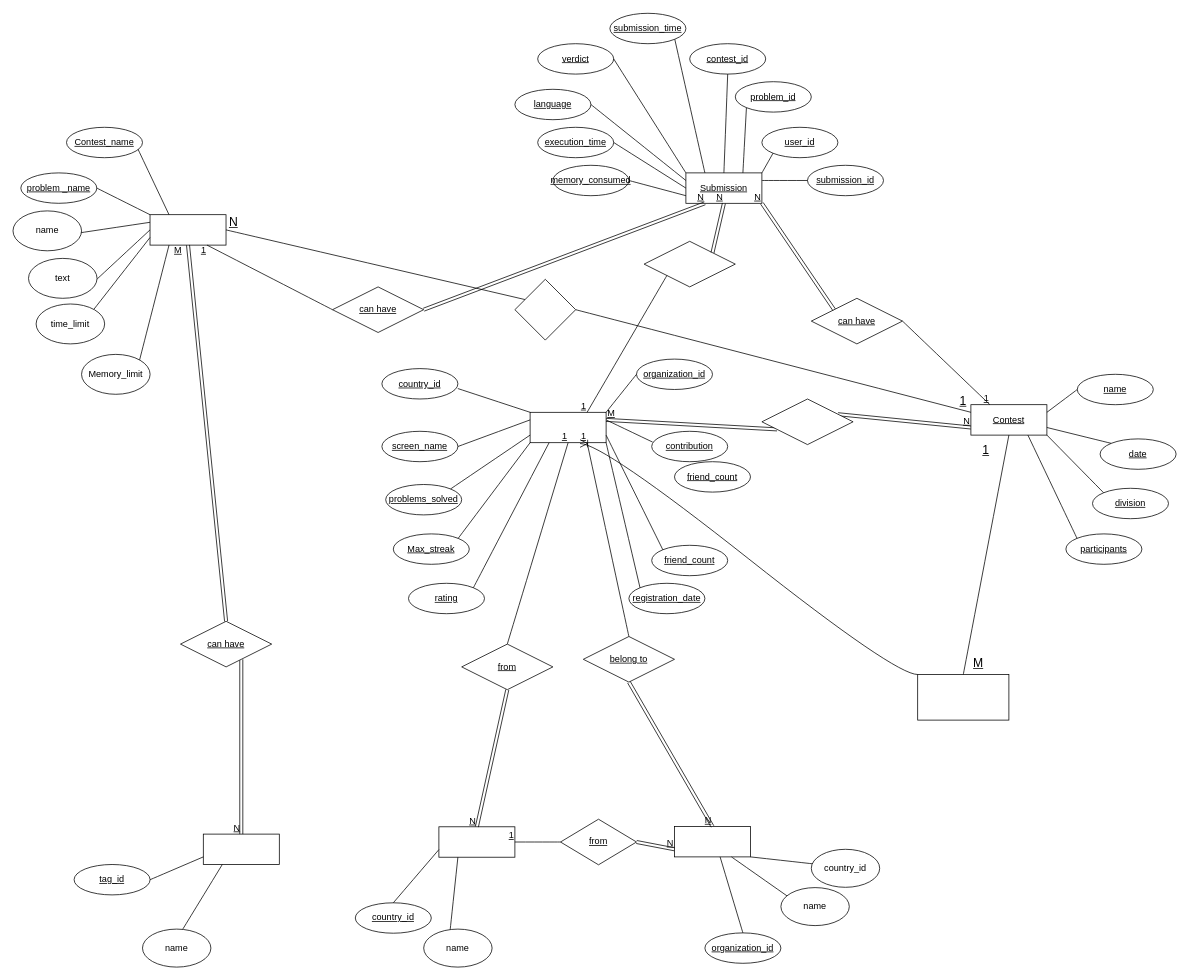
The diagram is 1190 pixels wide and 980 high, and some of its shapes have lost their labels. Here are the shapes that lost their labels. From the top down, the box of each, then its label:
(149, 214, 226, 245): Problem
(643, 241, 735, 287): can make
(514, 279, 576, 340): has
(529, 412, 606, 443): User
(761, 398, 853, 445): can participate
(917, 674, 1009, 720): ContestWriters
(203, 833, 279, 864): Tag
(438, 826, 515, 857): Country
(674, 826, 750, 857): Organization
